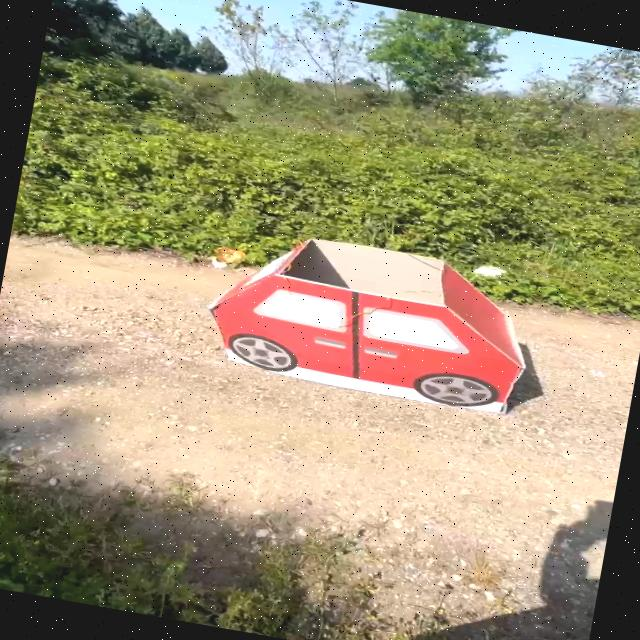red_car: (163, 210, 590, 435)
